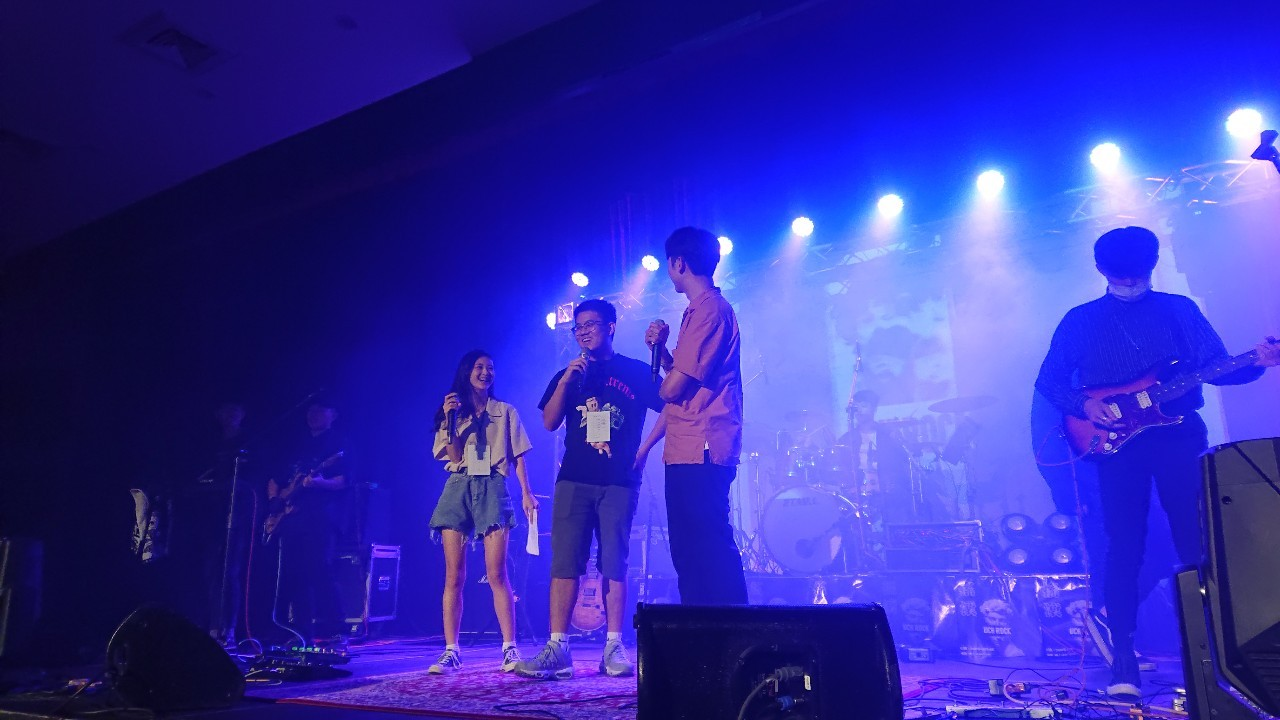people: (1068, 233, 1217, 720), (649, 227, 757, 618), (555, 302, 629, 673), (438, 355, 515, 669)
